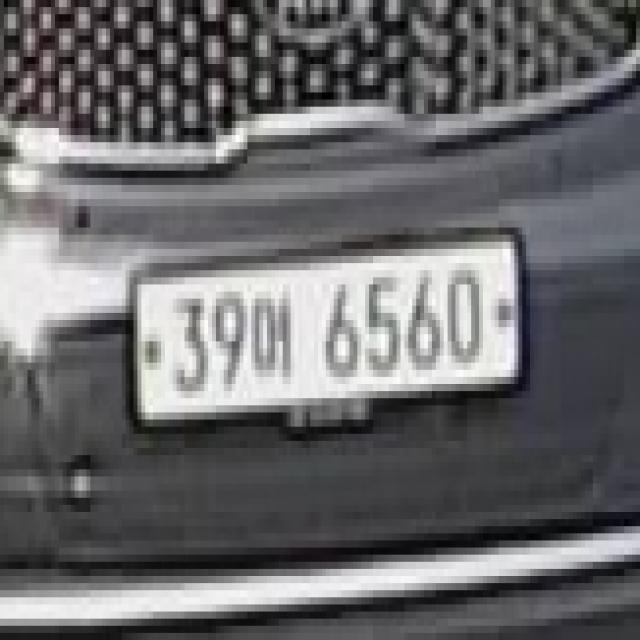0: (444, 256, 483, 370)
3: (169, 299, 208, 391)
5: (365, 270, 401, 377)
6: (404, 263, 440, 370), (326, 277, 357, 377)
9: (212, 292, 247, 384)
license_plate: (126, 228, 522, 427)
meo: (248, 284, 294, 384)
